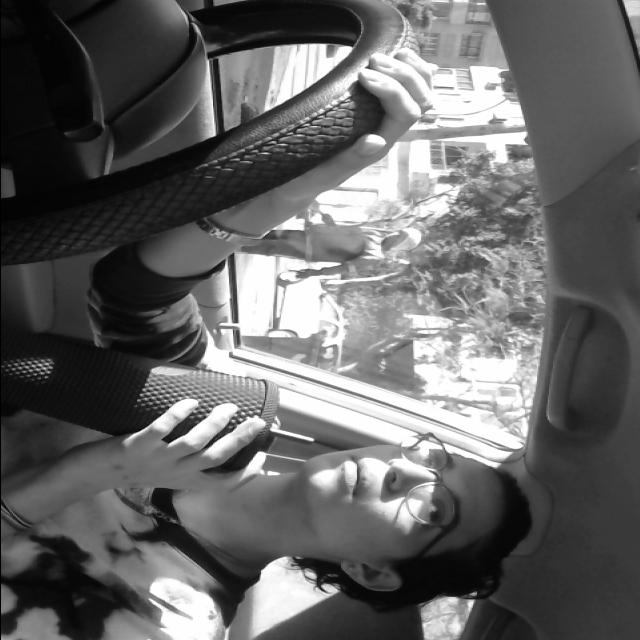drinking: (0, 327, 325, 488)
